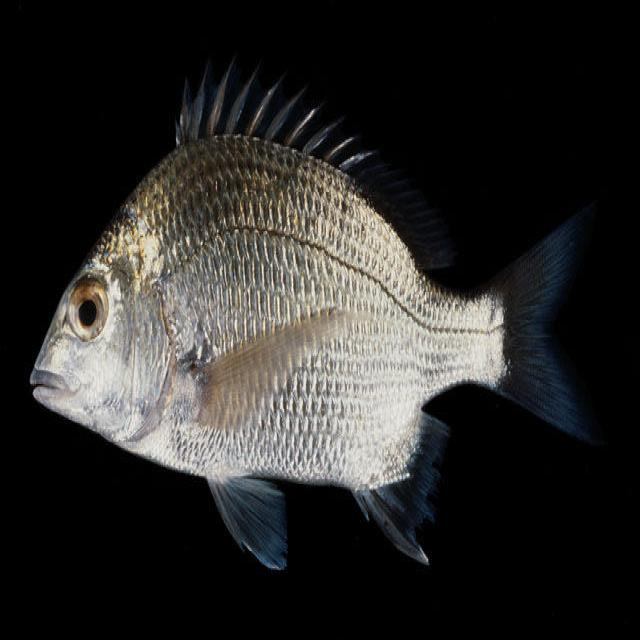ikan: (28, 51, 604, 573)
